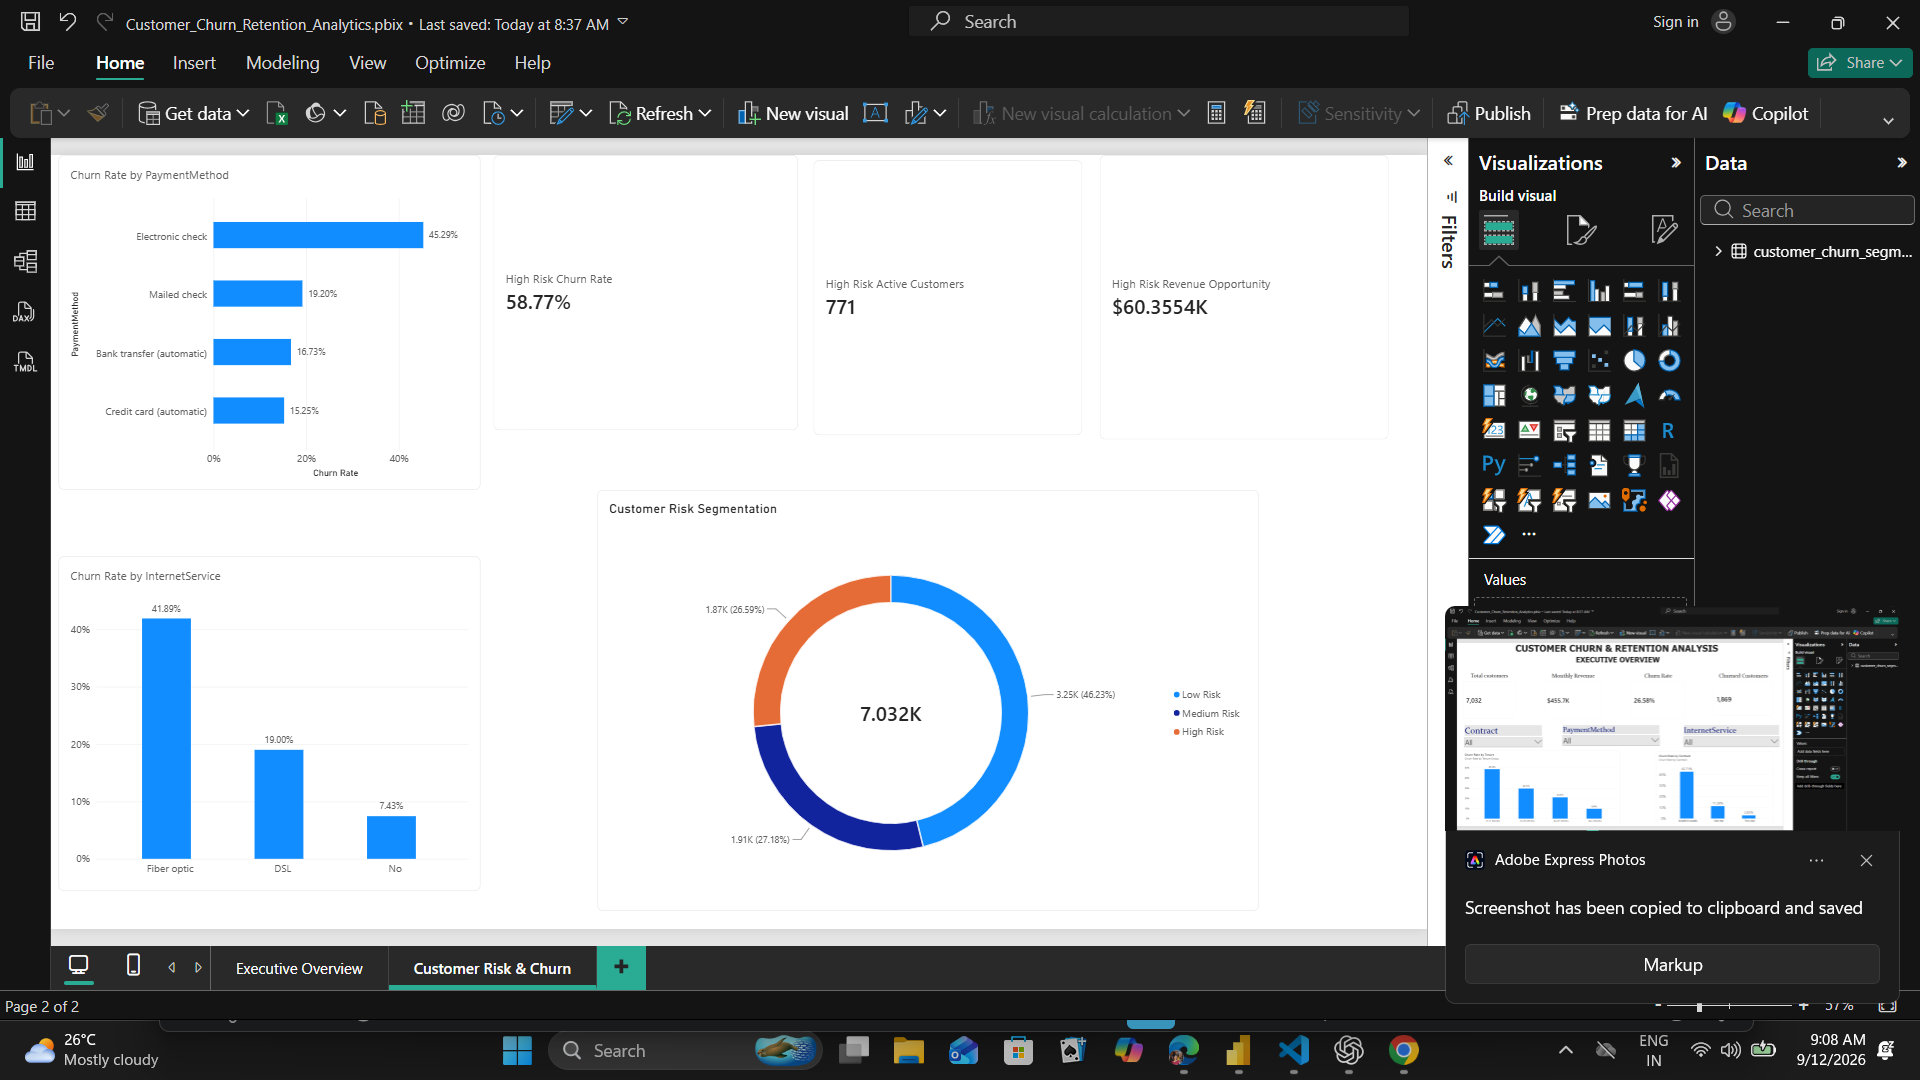

Layout of this report page (visuals, bound fields, positions):
{"tool":"powerbi","page":{"name":"Customer Risk & Churn","canvas":[1920,1080],"ordinal":1},"visuals":[{"type":"clusteredBarChart","fields":{"Category":["customer_churn_segmented.PaymentMethod"],"Y":["customer_churn_segmented.Churn Rate"]},"box":[10.9,0,589.1,466.9],"z":0},{"type":"clusteredColumnChart","fields":{"Category":["customer_churn_segmented.InternetService"],"Y":["customer_churn_segmented.Churn Rate"]},"box":[10.9,560.7,589,467],"z":1000},{"type":"donutChart","title":"Customer Risk Segmentation","fields":{"Category":["customer_churn_segmented.RiskSegment"],"Y":["CountNonNull(customer_churn_segmented.customerID)"]},"box":[761.5,466.9,922.9,586.9],"z":2000},{"type":"cardVisual","fields":{"Data":["customer_churn_segmented.High Risk Churn Rate"]},"box":[617.5,0,425.5,384],"z":3000},{"type":"cardVisual","fields":{"Data":["customer_churn_segmented.High Risk Active Customers"]},"box":[1064.7,6.5,375.3,384],"z":4000},{"type":"cardVisual","fields":{"Data":["customer_churn_segmented.High Risk Revenue Opportunity"]},"box":[1464,0,403.6,397.1],"z":5000}]}

Visuals, with their boxes on the page's 1920x1080 design canvas (x1, y1, x2, y2). These are canvas units, not pixel positions in the 1920x1080 screenshot, which may show the page scaled, cropped or inside an application window:
clusteredBarChart - customer_churn_segmented.PaymentMethod x customer_churn_segmented.Churn Rate: crop(11, 0, 600, 467)
clusteredColumnChart - customer_churn_segmented.InternetService x customer_churn_segmented.Churn Rate: crop(11, 561, 600, 1028)
"Customer Risk Segmentation" donutChart: crop(762, 467, 1684, 1054)
cardVisual - customer_churn_segmented.High Risk Churn Rate: crop(618, 0, 1043, 384)
cardVisual - customer_churn_segmented.High Risk Active Customers: crop(1065, 6, 1440, 390)
cardVisual - customer_churn_segmented.High Risk Revenue Opportunity: crop(1464, 0, 1868, 397)
